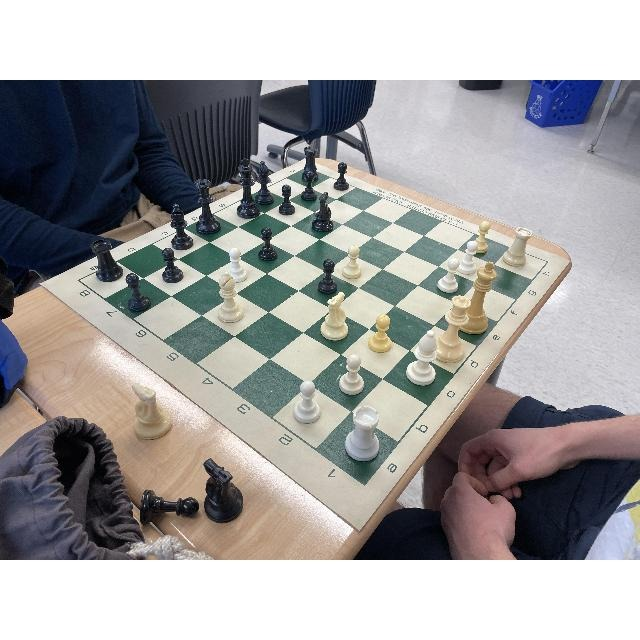black-pawn: (312, 190, 338, 232), (158, 245, 184, 284), (124, 273, 151, 310), (255, 227, 277, 262), (314, 259, 334, 292), (332, 164, 350, 193), (278, 187, 294, 217), (302, 169, 318, 199)
black-rook: (93, 241, 127, 282), (242, 166, 262, 218), (199, 192, 223, 233), (171, 209, 193, 249), (257, 164, 277, 202), (302, 151, 319, 177)
white-bishop: (465, 254, 493, 336), (345, 403, 383, 461)
white-pawn: (284, 374, 322, 428), (363, 309, 397, 358), (218, 269, 245, 326), (408, 333, 436, 384), (341, 234, 369, 283), (322, 290, 348, 337), (223, 238, 246, 281), (339, 358, 366, 394), (504, 231, 529, 269), (442, 251, 462, 293)
